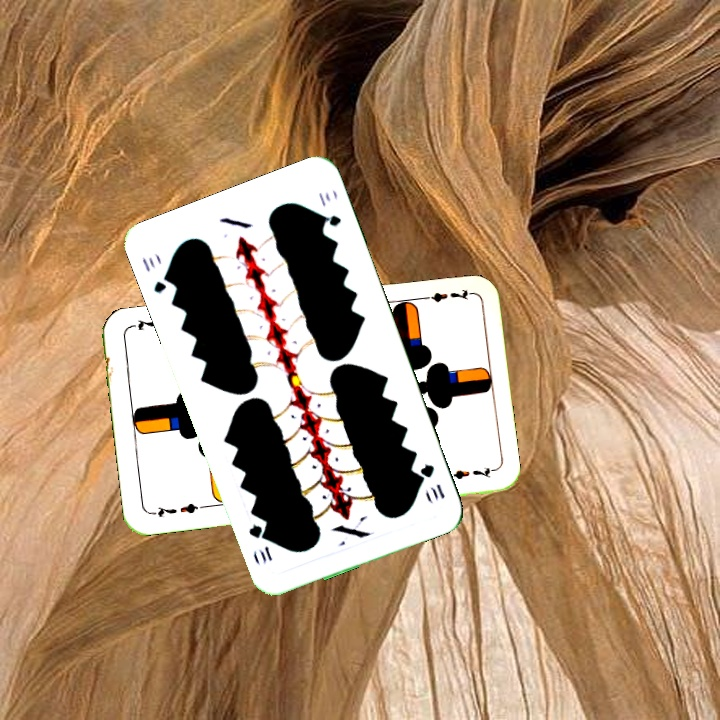E7: (414, 284, 473, 305), (147, 499, 207, 519)
G10: (138, 252, 175, 296), (416, 460, 448, 504)
